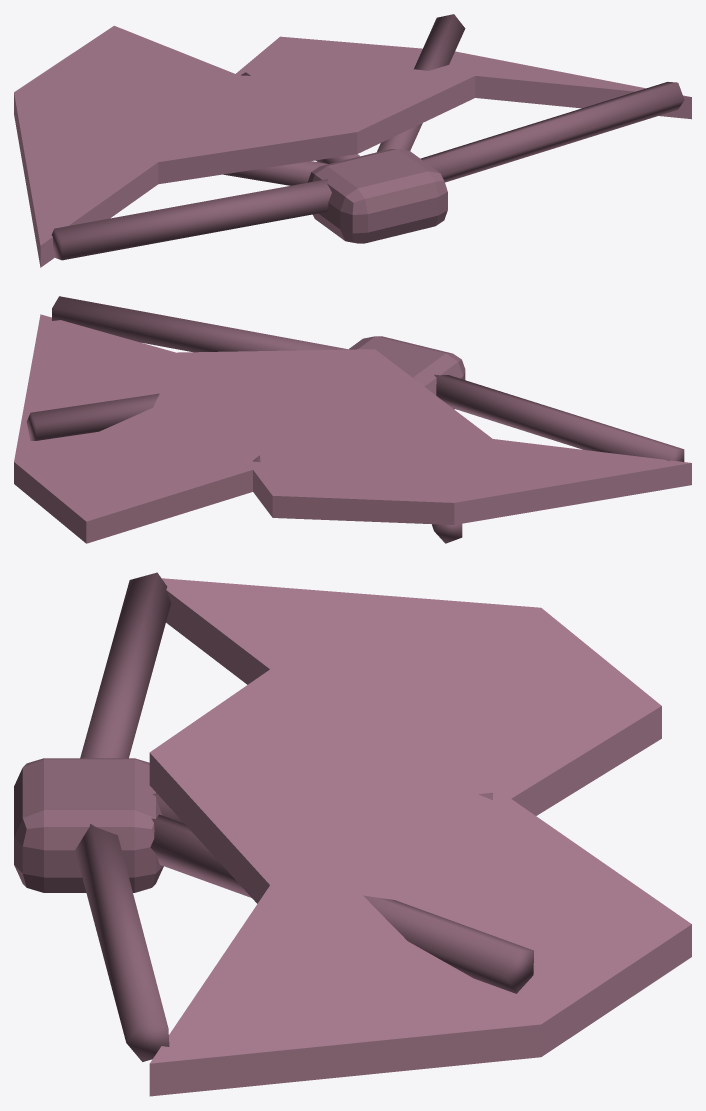
File: wingskin.glb
3 views of the same model, one above another, from view 1: azimuth 30°, elevation 25°; view 2: azimuth 150°, elevation 25°; view 3: azimuth 270°, elevation 25° (orthographic). The views are drawn at different scales.
Parts seen in each view (by area): view 1: model; view 2: model; view 3: model.
Boxes of the visible parts, <box> form: model: <box>14,14,691,267</box>; model: <box>14,296,691,543</box>; model: <box>14,572,691,1096</box>.
Bounding box in the file's own units: 0.37 × 0.051 × 0.225.
